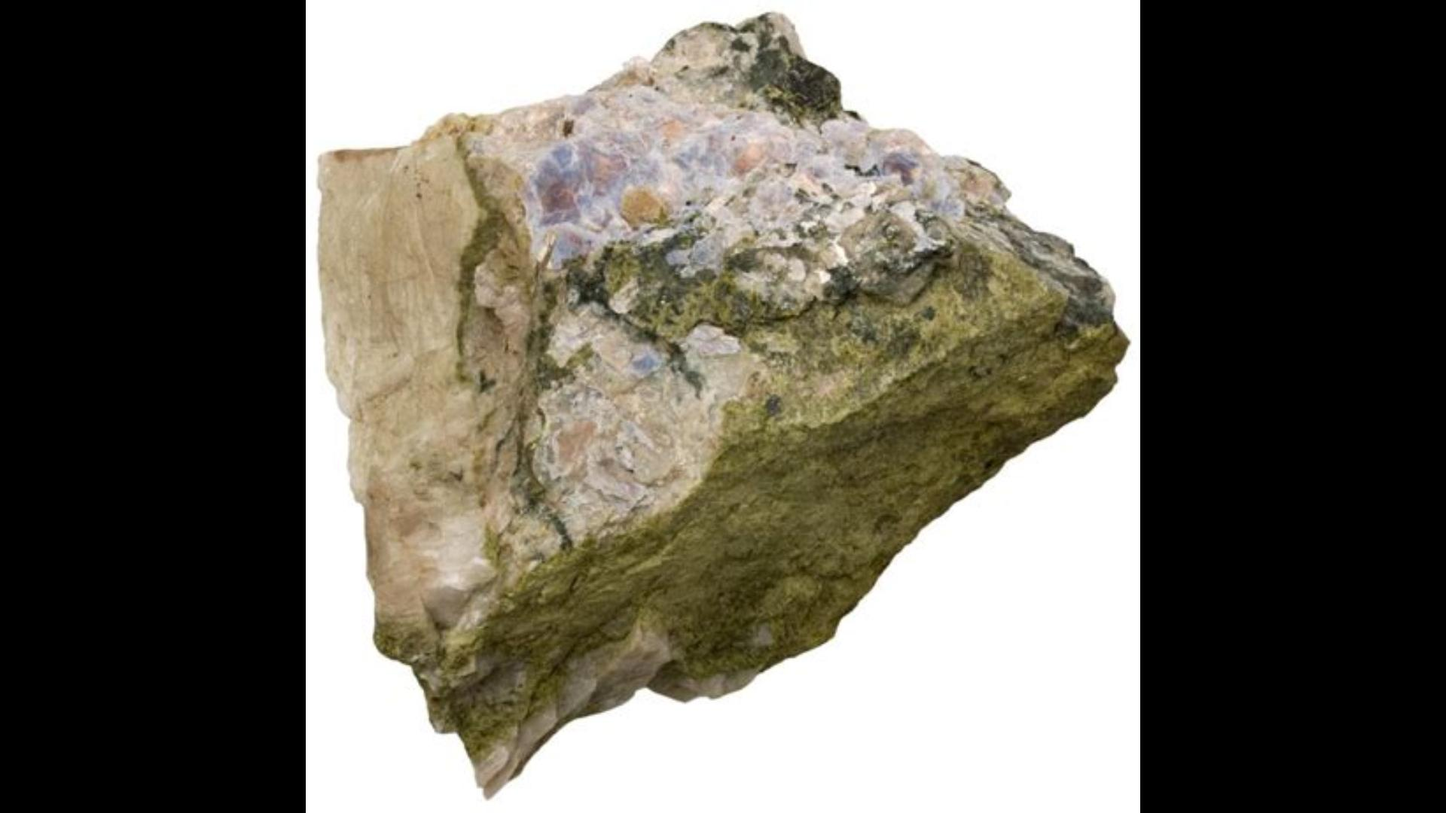rock: (322, 16, 1124, 792)
